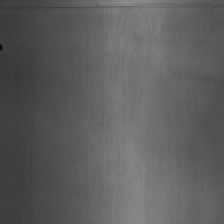welding_line: (0, 0, 222, 11), (0, 40, 3, 53)
